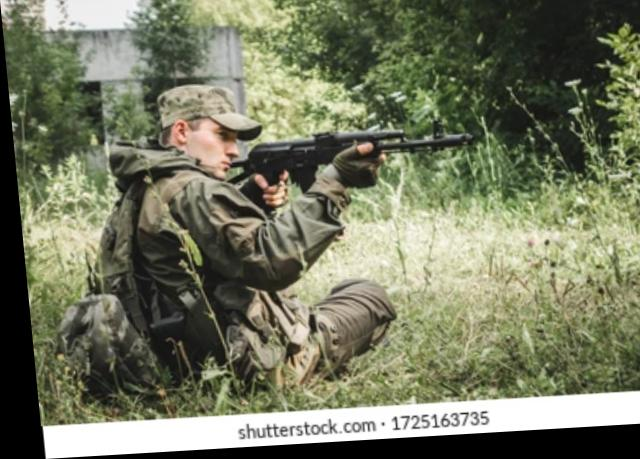other: (78, 73, 394, 376)
